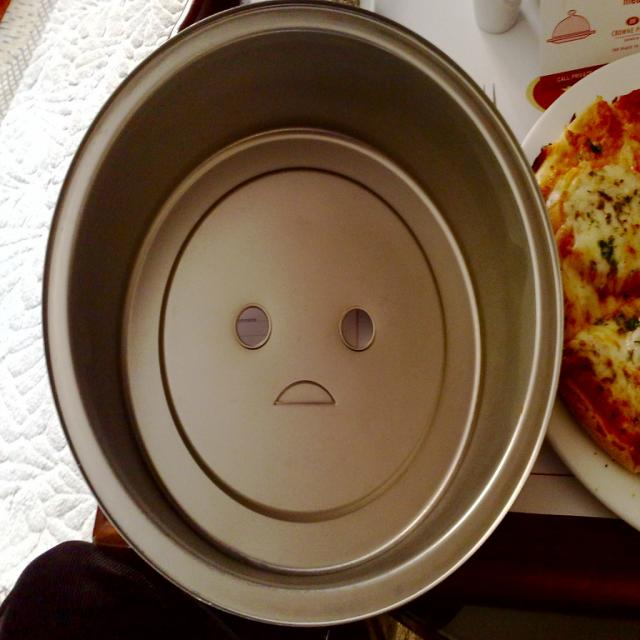non-organic waste: (44, 3, 560, 640)
